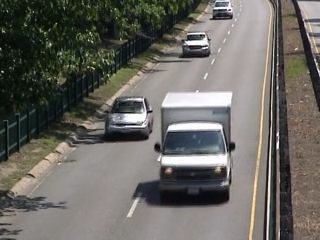car: (106, 95, 154, 141), (178, 32, 214, 59), (209, 1, 236, 22)
truck: (158, 88, 239, 207)
